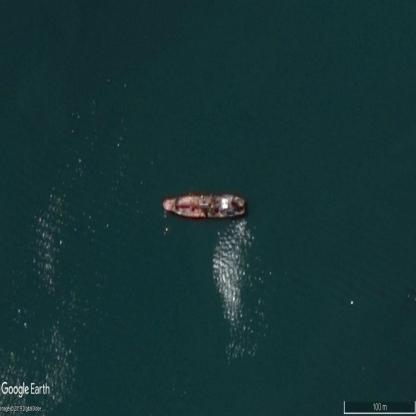ship: (163, 195, 245, 217)
